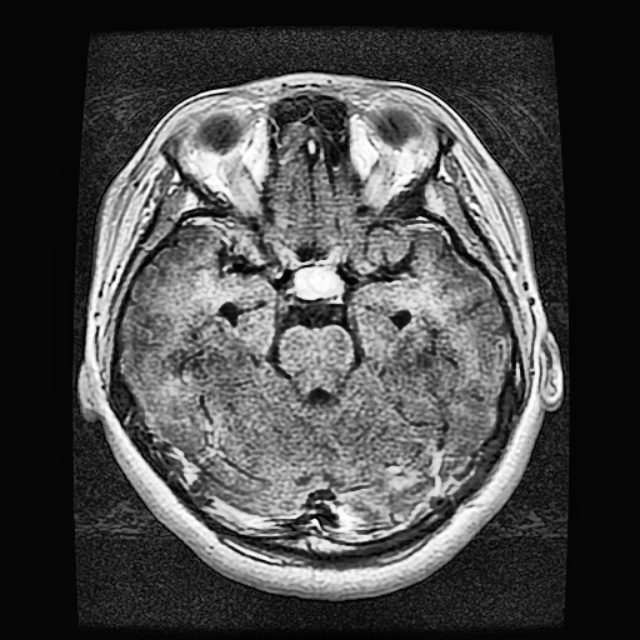Pituitary: (294, 267, 343, 298)
